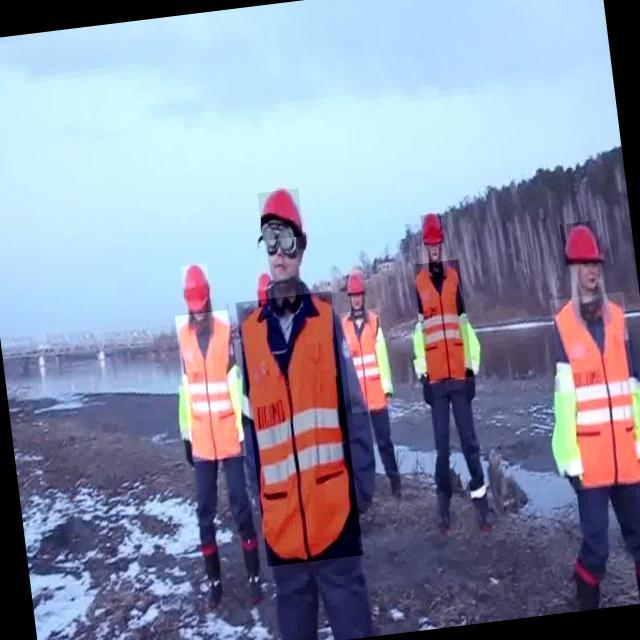Gloves: (455, 362, 489, 409), (415, 369, 438, 415), (175, 437, 199, 473)
Helmet: (258, 188, 306, 241), (560, 220, 603, 266), (181, 263, 212, 314), (420, 213, 444, 245), (254, 273, 274, 308), (342, 273, 366, 296)
Person: (242, 170, 374, 640), (538, 198, 640, 640), (407, 188, 508, 550), (155, 261, 243, 640)
Safety Boot: (192, 535, 229, 612), (235, 532, 270, 610), (466, 485, 498, 537), (430, 484, 459, 539), (384, 466, 406, 502)
Safety Vest: (236, 291, 363, 567), (549, 291, 640, 490), (175, 310, 246, 462), (413, 259, 473, 382), (340, 309, 392, 415), (548, 365, 584, 485), (454, 316, 485, 376), (170, 379, 195, 441), (373, 325, 393, 402), (411, 322, 428, 382)
